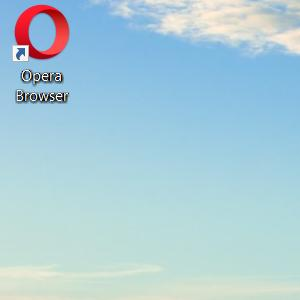opera: (12, 5, 69, 62)
